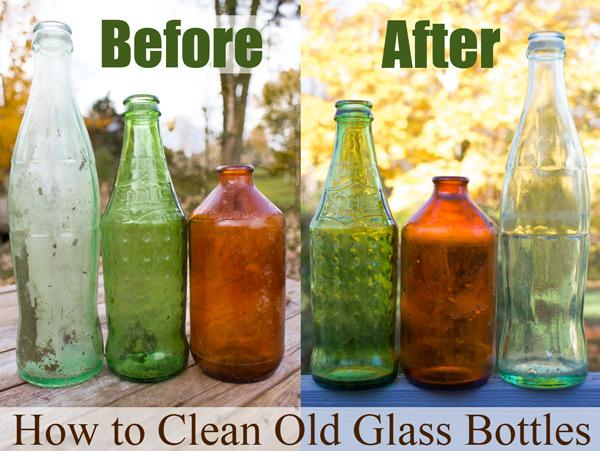glass: (8, 25, 103, 388), (505, 31, 591, 387), (307, 98, 397, 388), (105, 96, 189, 381), (191, 165, 287, 383), (403, 173, 499, 390)
